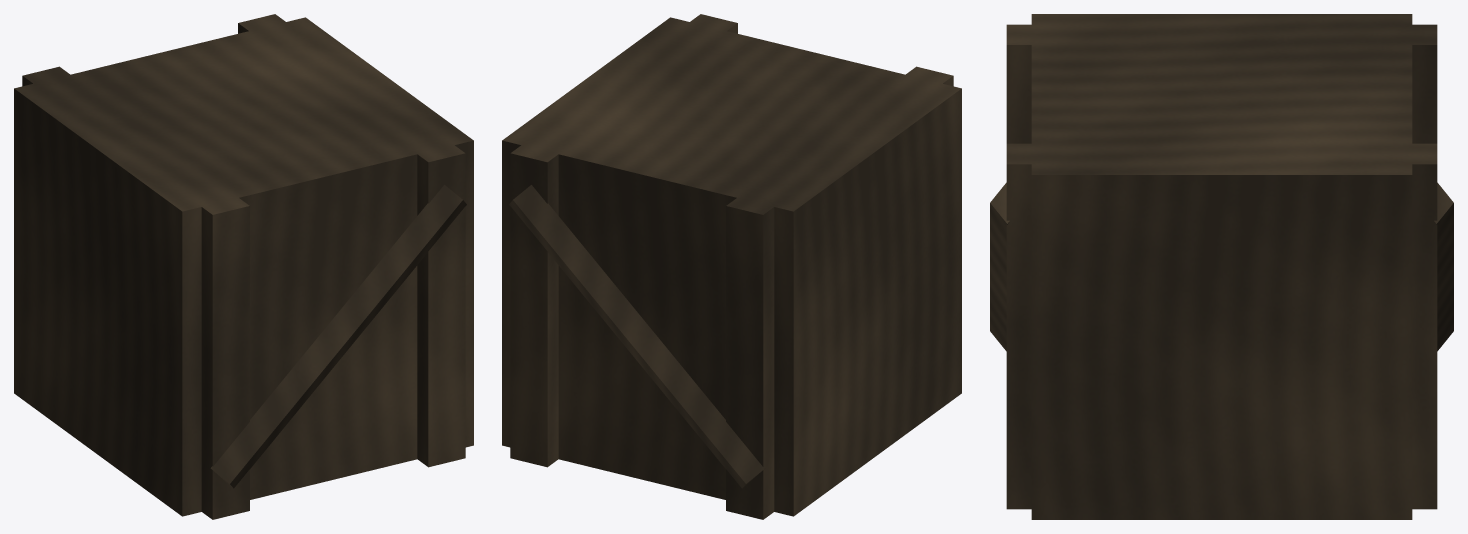
File: Crate_Small.glb
3 views of the same model, side by side, from view 1: azimuth 30°, elevation 25°; view 2: azimuth 150°, elevation 25°; view 3: azimuth 270°, elevation 25° (orthographic). The views are drawn at different scales.
Visible parts, largest first — view 1: Crate_Small; view 2: Crate_Small; view 3: Crate_Small.
Part boxes in pixels (x1,y1,x2,y2): Crate_Small: (14, 14, 473, 519); Crate_Small: (502, 14, 961, 519); Crate_Small: (990, 14, 1453, 519).
Bounding box in the file's own units: 0.55 × 0.55 × 0.67.
1 material, 1 textured.
